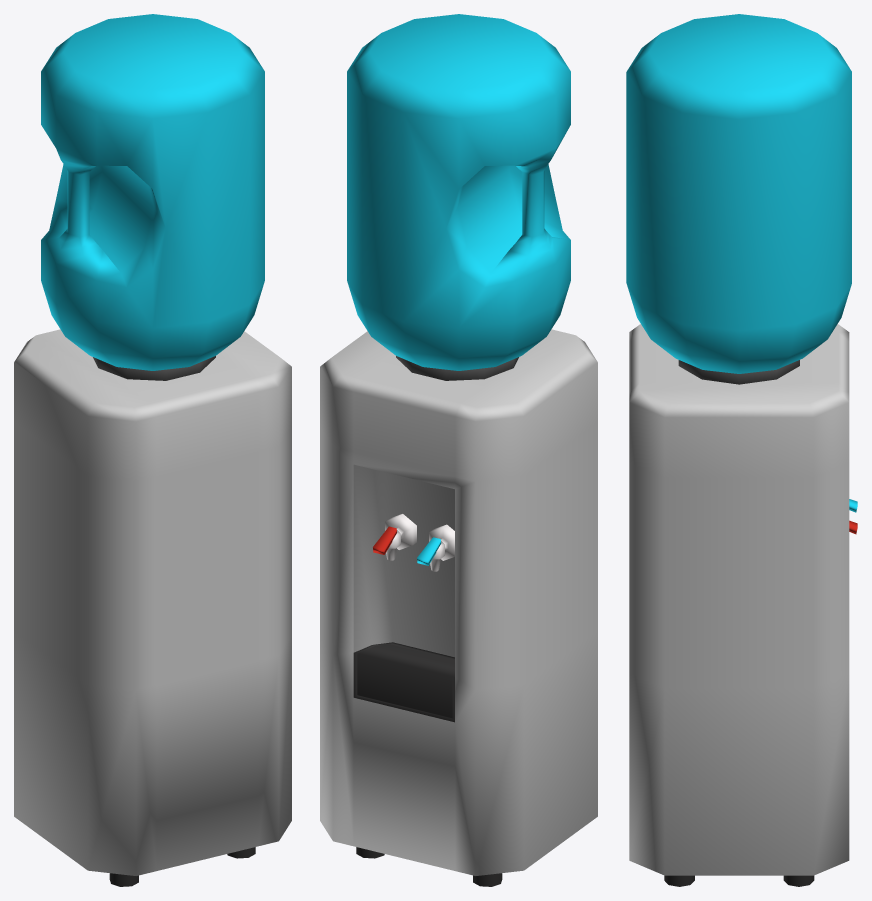
File: waterCooler.glb
The picture shows the model from 3 angles, left to right: view 1: azimuth 30°, elevation 25°; view 2: azimuth 150°, elevation 25°; view 3: azimuth 270°, elevation 25°; orthographic projection.
Parts seen in each view (by area): view 1: polySurface1; view 2: polySurface1; view 3: polySurface1.
Boxes of the visible parts, bbox=[...] form: polySurface1: bbox=[14, 14, 291, 886]; polySurface1: bbox=[320, 14, 597, 886]; polySurface1: bbox=[626, 14, 857, 886].
Size of the model in its own units: 0.635 by 2.36 by 0.6177.
1 material, 1 textured.
